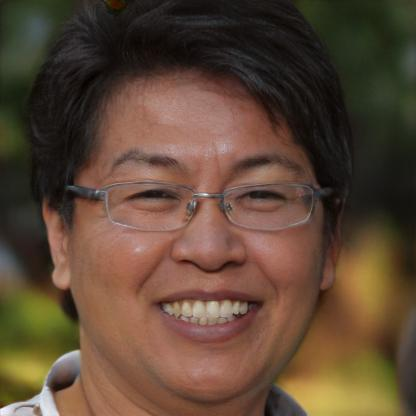glasses: (80, 175, 324, 237)
